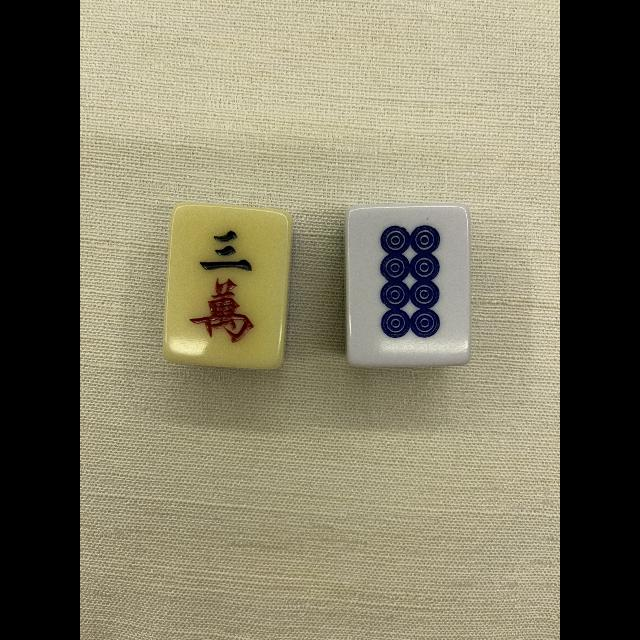c3: (167, 208, 283, 360)
d8: (349, 208, 468, 362)
